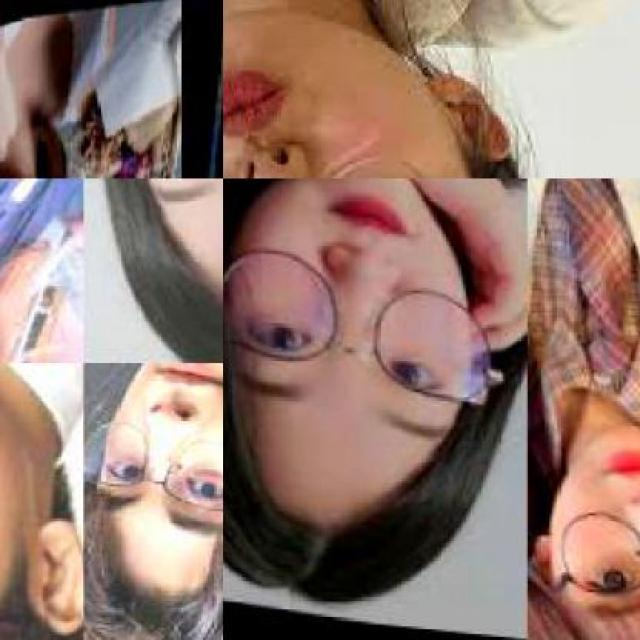glasses: (222, 248, 516, 420), (548, 471, 638, 638), (85, 417, 222, 526)
